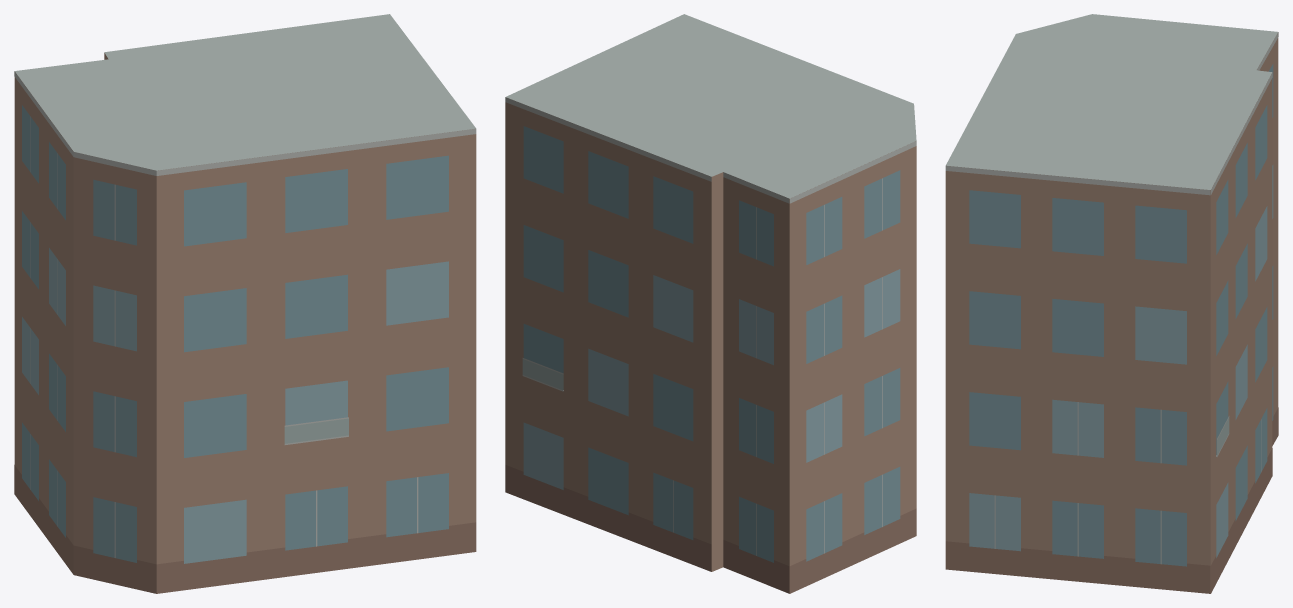
The model's file is survey-upis-32845005.glb.
3 views of the same model, side by side, from view 1: azimuth 30°, elevation 25°; view 2: azimuth 150°, elevation 25°; view 3: azimuth 270°, elevation 25° (orthographic). The views are drawn at different scales.
Visible parts, largest first — view 1: survey-upis-32845005.tmp; view 2: survey-upis-32845005.tmp; view 3: survey-upis-32845005.tmp.
Part boxes in pixels (x1=…): survey-upis-32845005.tmp: x1=14, y1=14, x2=476, y2=593; survey-upis-32845005.tmp: x1=505, y1=14, x2=916, y2=593; survey-upis-32845005.tmp: x1=945, y1=14, x2=1278, y2=593.
Size of the model in its own units: 17.74 by 18.95 by 14.17.
